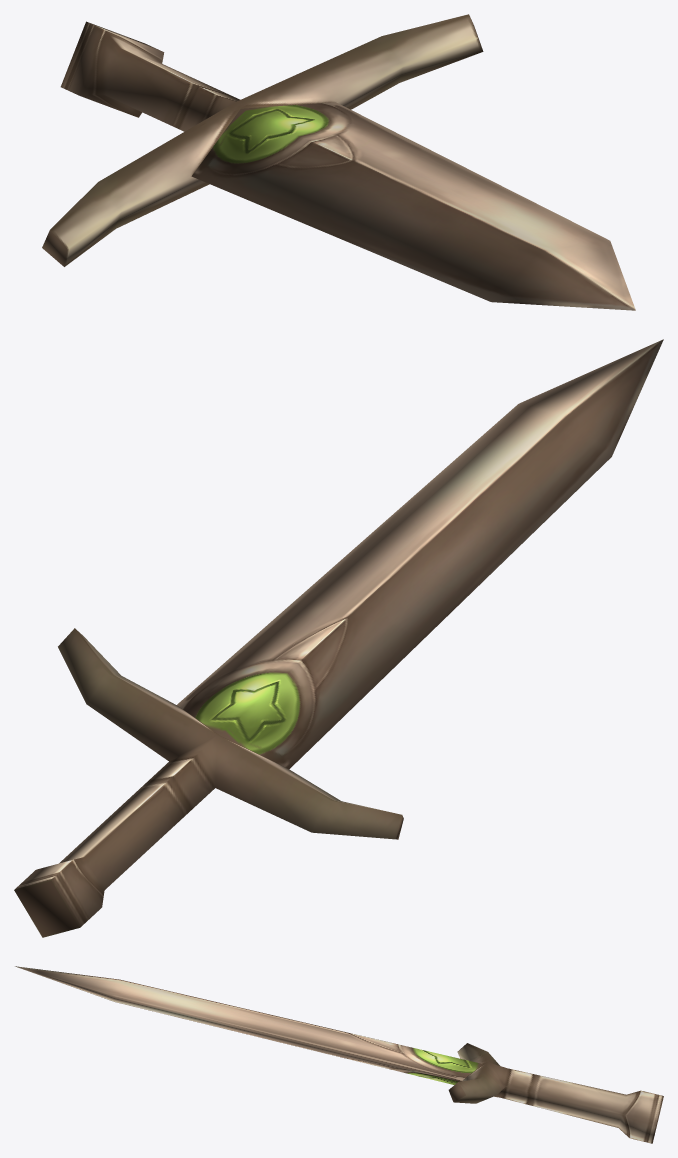
File: Sword(22).obj
3 views of the same model, one above another, from view 1: azimuth 30°, elevation 25°; view 2: azimuth 150°, elevation 25°; view 3: azimuth 270°, elevation 25° (orthographic). The views are drawn at different scales.
Visible parts, largest first — view 1: sword1_LOD003; view 2: sword1_LOD003; view 3: sword1_LOD003.
Part boxes in pixels (x1,y1,x2,y2): sword1_LOD003: (42, 14, 635, 310); sword1_LOD003: (14, 339, 663, 937); sword1_LOD003: (15, 966, 663, 1143).
Bounding box in the file's own units: 0.5057 × 0.3378 × 1.35.
